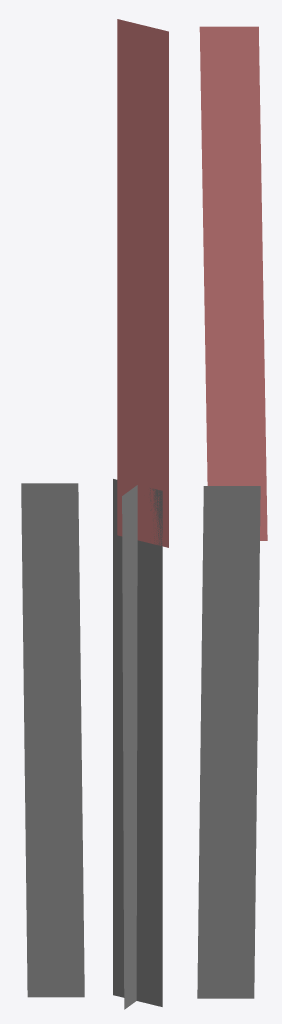
Rendered from Primitive_INDeco_Long001.gltf.
The picture shows the model from 3 angles, left to right: view 1: azimuth 90°, elevation 25°; view 2: azimuth 150°, elevation 25°; view 3: azimuth 270°, elevation 25°; orthographic projection.
Visible parts, largest first — view 1: Primitive_INDeco_Long001; view 2: Primitive_INDeco_Long001; view 3: Primitive_INDeco_Long001.
Part boxes in pixels (bbox=[...]): Primitive_INDeco_Long001: bbox=[21, 483, 84, 997]; Primitive_INDeco_Long001: bbox=[113, 19, 168, 1009]; Primitive_INDeco_Long001: bbox=[197, 26, 267, 998].
Bounding box in the file's own units: 0.8419 × 14.1 × 0.9258.
